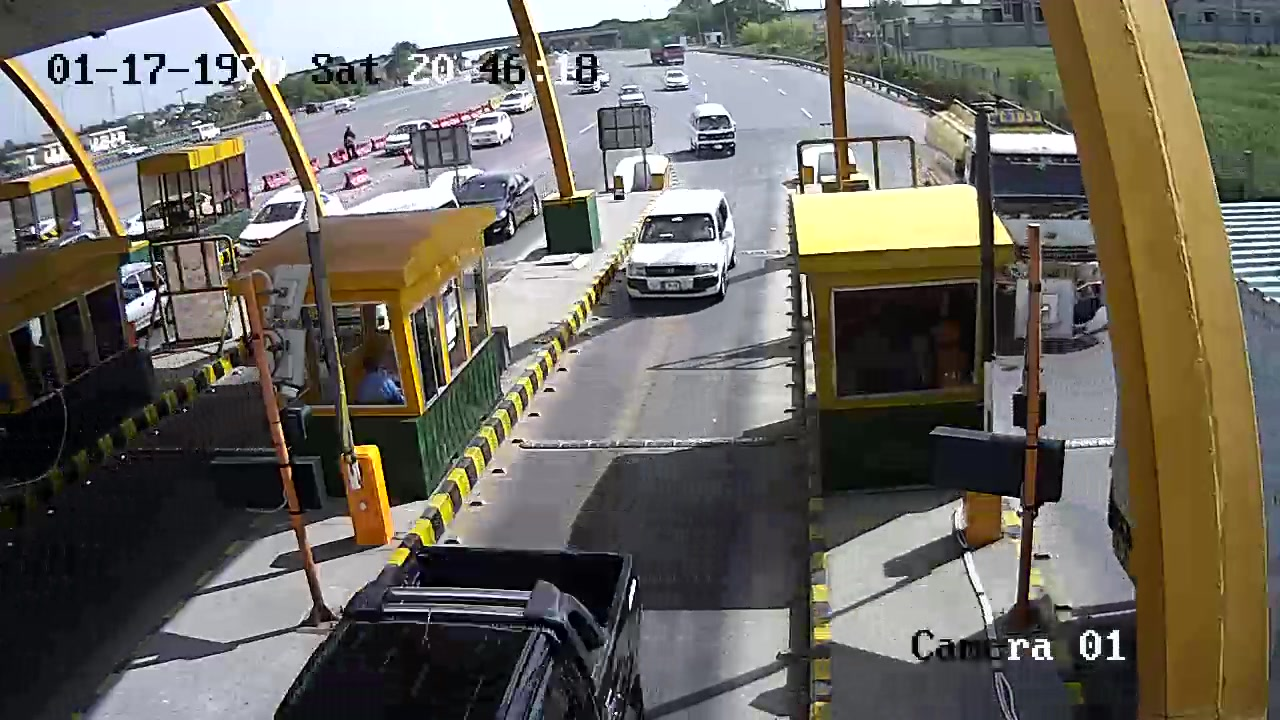F1: (612, 188, 740, 314)
